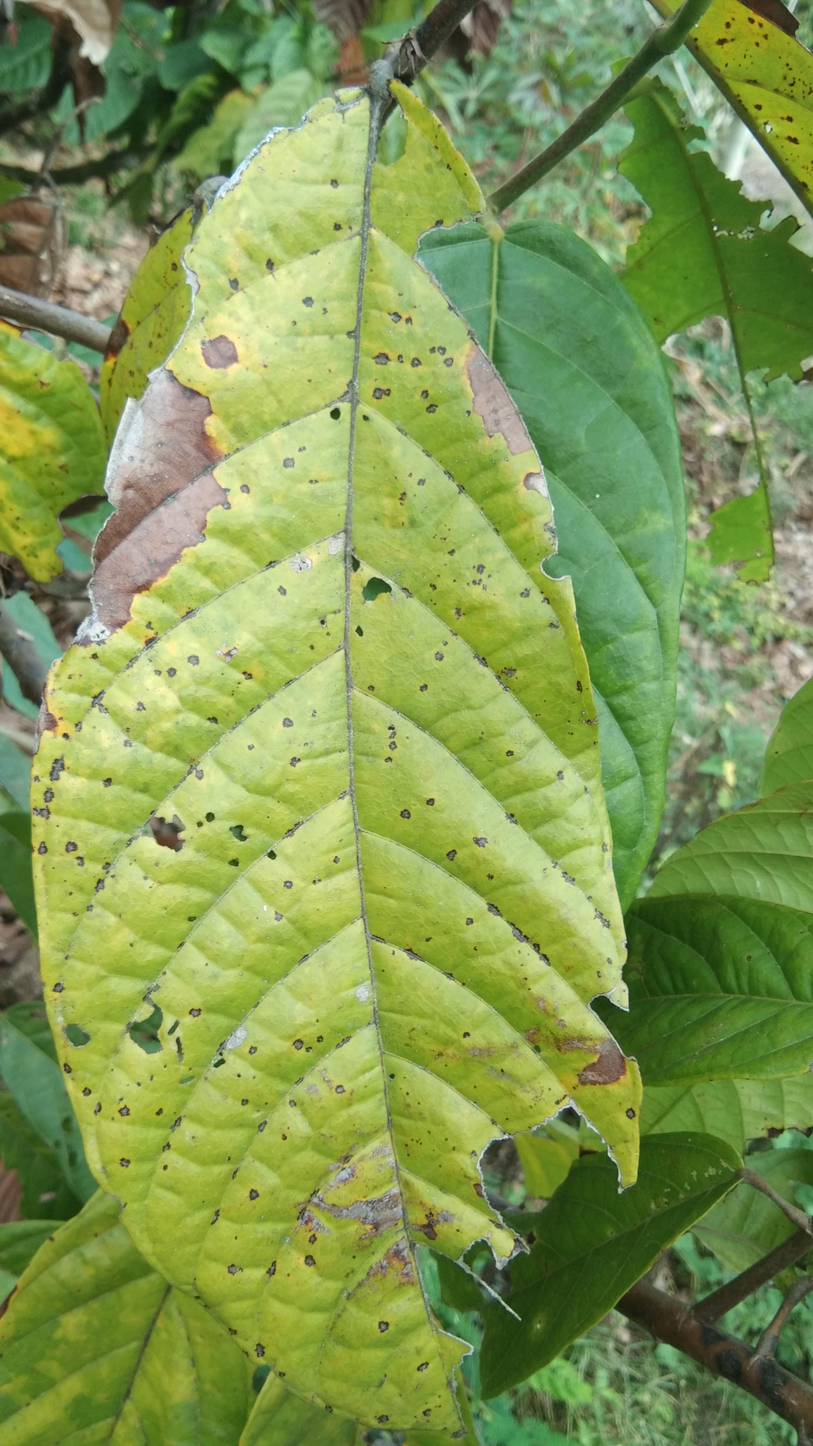deficiencia_potasio: (15, 57, 652, 1446)
